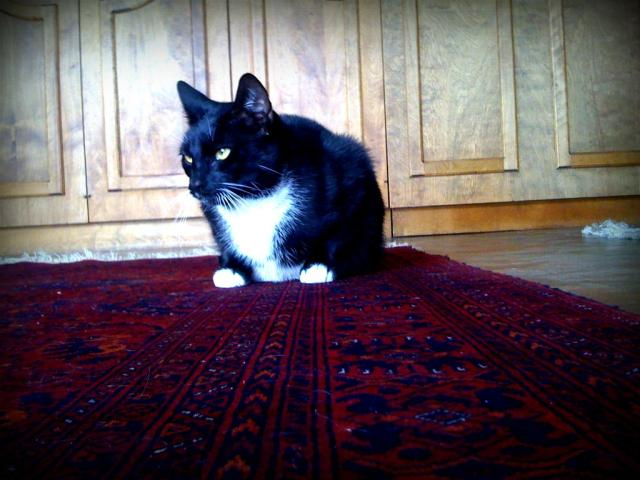Cat: (172, 70, 390, 286)
